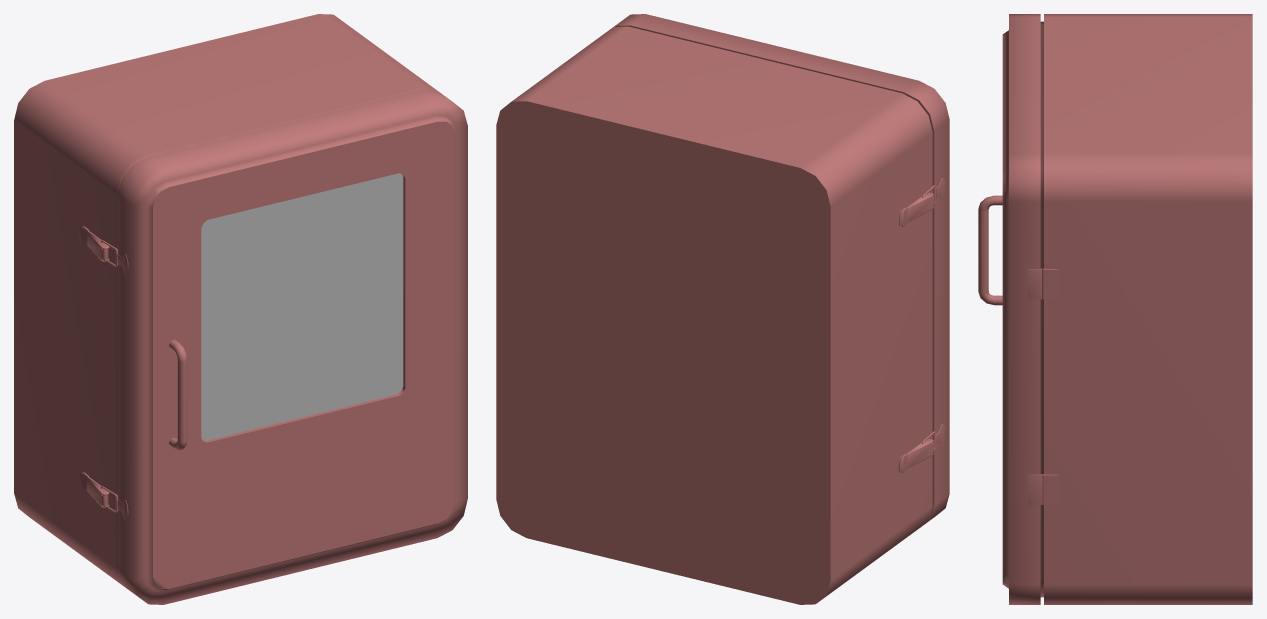
File: SM_Defibrillator_Case_02a.FBX
The picture shows the model from 3 angles, left to right: view 1: azimuth 30°, elevation 25°; view 2: azimuth 150°, elevation 25°; view 3: azimuth 270°, elevation 25°; orthographic projection. The views are drawn at different scales.
Visible parts, largest first — view 1: SM_Defibrillator_Case_02a_LOD0; view 2: SM_Defibrillator_Case_02a_LOD0; view 3: SM_Defibrillator_Case_02a_LOD0.
Part boxes in pixels (x1,y1,x2,y2): SM_Defibrillator_Case_02a_LOD0: (14, 14, 467, 604); SM_Defibrillator_Case_02a_LOD0: (496, 14, 949, 604); SM_Defibrillator_Case_02a_LOD0: (978, 14, 1252, 604).
Size of what is drawn, in the model's own units: 38.81 by 47.18 by 26.23.
